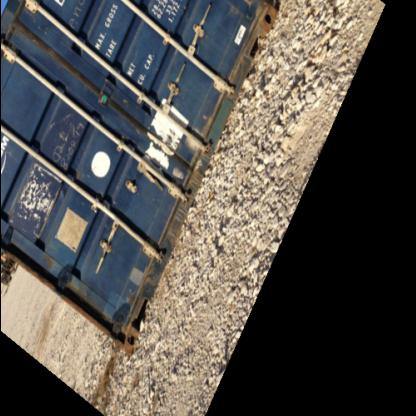Damage: (134, 94, 186, 192), (38, 110, 84, 174), (219, 0, 268, 35), (101, 283, 140, 325)
